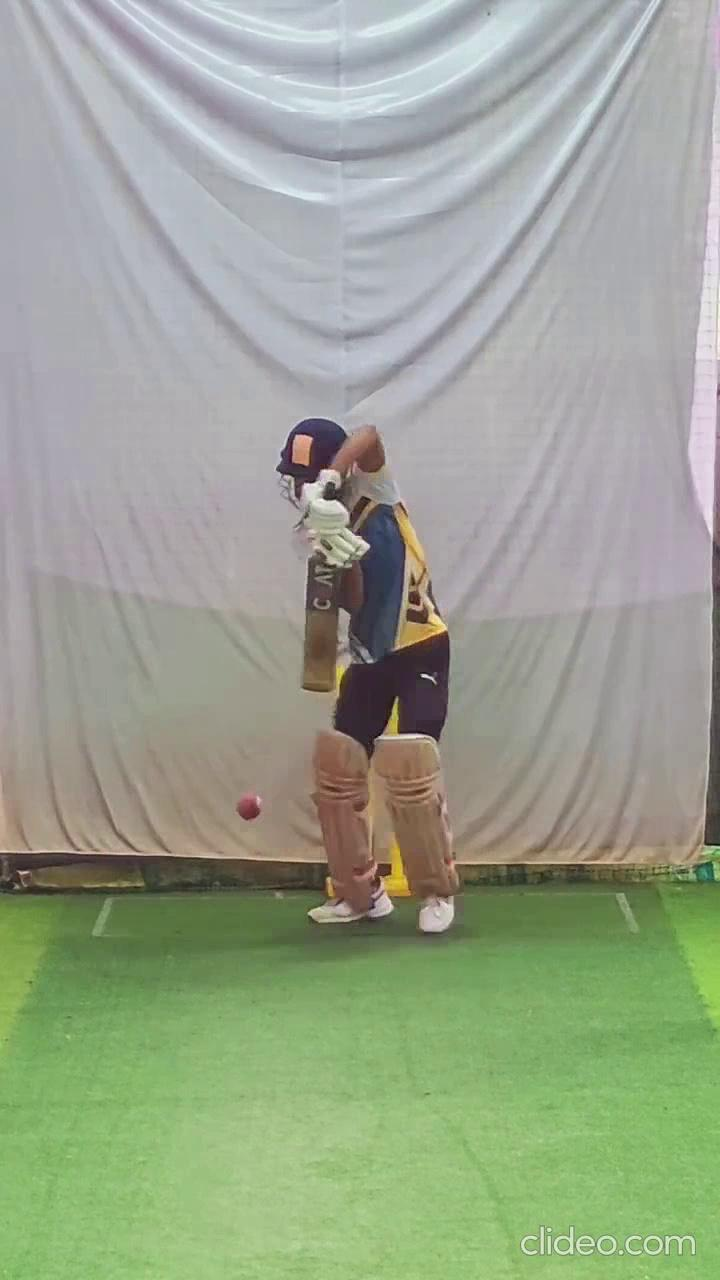bat: (301, 558, 342, 694)
